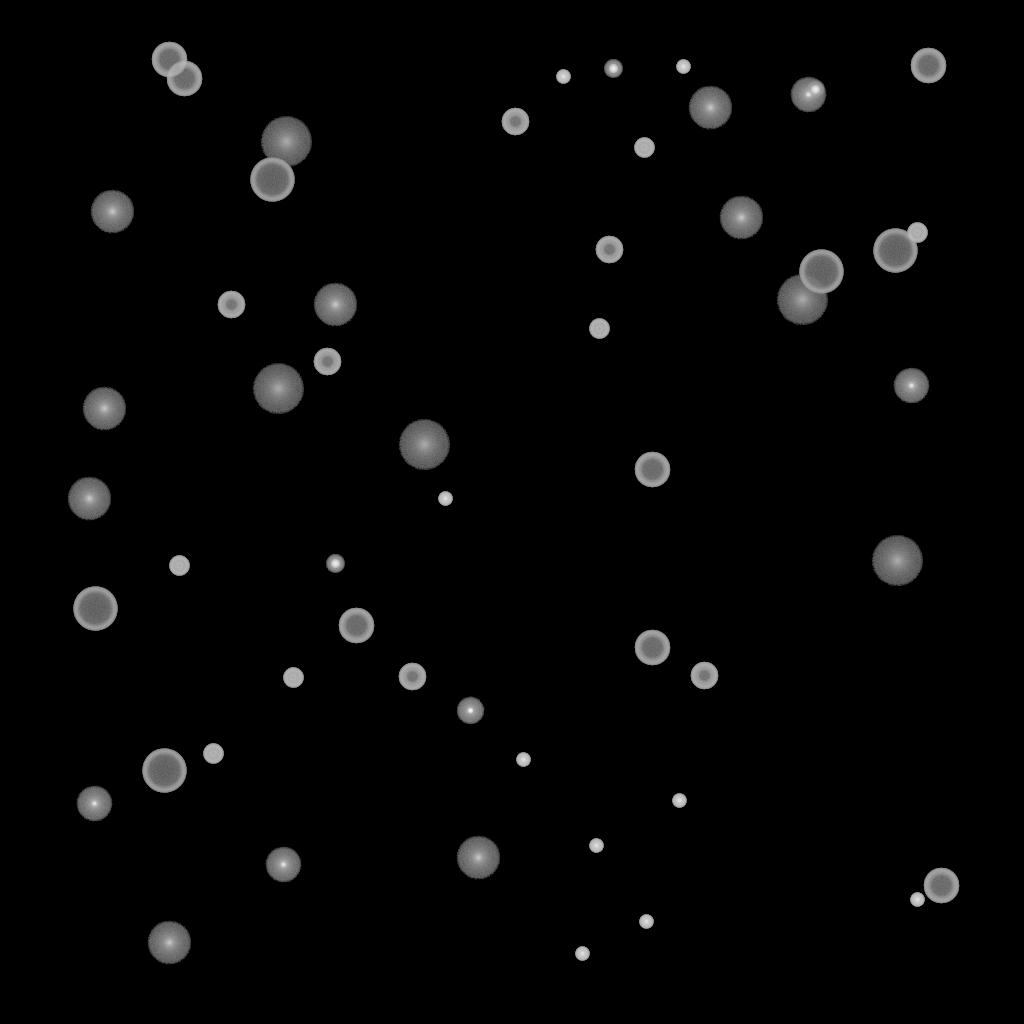depth:-10: (456, 697, 484, 725)
depth:-20: (604, 60, 622, 78), (326, 555, 344, 573), (806, 81, 824, 99)
depth:-30: (575, 947, 589, 961), (672, 794, 686, 808), (676, 60, 690, 74), (589, 839, 603, 853), (910, 893, 924, 907), (556, 70, 570, 84), (438, 492, 452, 506), (516, 753, 530, 767), (639, 915, 653, 929)
depth:-40: (169, 556, 189, 576), (589, 319, 609, 339), (203, 744, 223, 764), (907, 223, 927, 243), (634, 138, 654, 158), (283, 668, 303, 688)
depth:-50: (217, 291, 245, 319), (313, 348, 341, 376), (595, 236, 623, 264), (501, 108, 529, 136), (690, 662, 718, 690), (398, 663, 426, 691)
depth:-60: (338, 608, 374, 644), (923, 868, 959, 904), (634, 452, 670, 488), (166, 61, 202, 97), (634, 630, 670, 666), (910, 48, 946, 84), (151, 42, 187, 78)
depth:-70: (250, 158, 294, 202), (799, 250, 843, 294), (142, 749, 186, 793), (73, 587, 117, 631), (873, 229, 917, 273)
depth:0: (893, 368, 929, 404), (790, 77, 826, 113), (265, 847, 301, 883), (76, 786, 112, 822)
depth:10: (82, 387, 126, 431), (67, 477, 111, 521), (688, 86, 732, 130), (719, 196, 763, 240), (90, 190, 134, 234), (456, 836, 500, 880), (147, 921, 191, 965), (313, 283, 357, 327)
depth:20: (260, 117, 312, 167), (871, 536, 923, 586), (252, 364, 304, 414), (776, 275, 828, 325), (398, 420, 450, 470)
